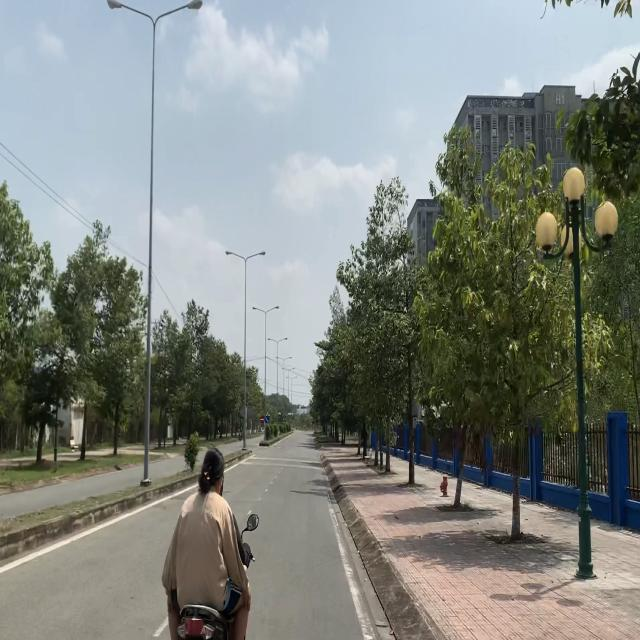Cam nguoc chieu: (259, 414, 265, 424)
Hieu lenh: (265, 414, 270, 424)
